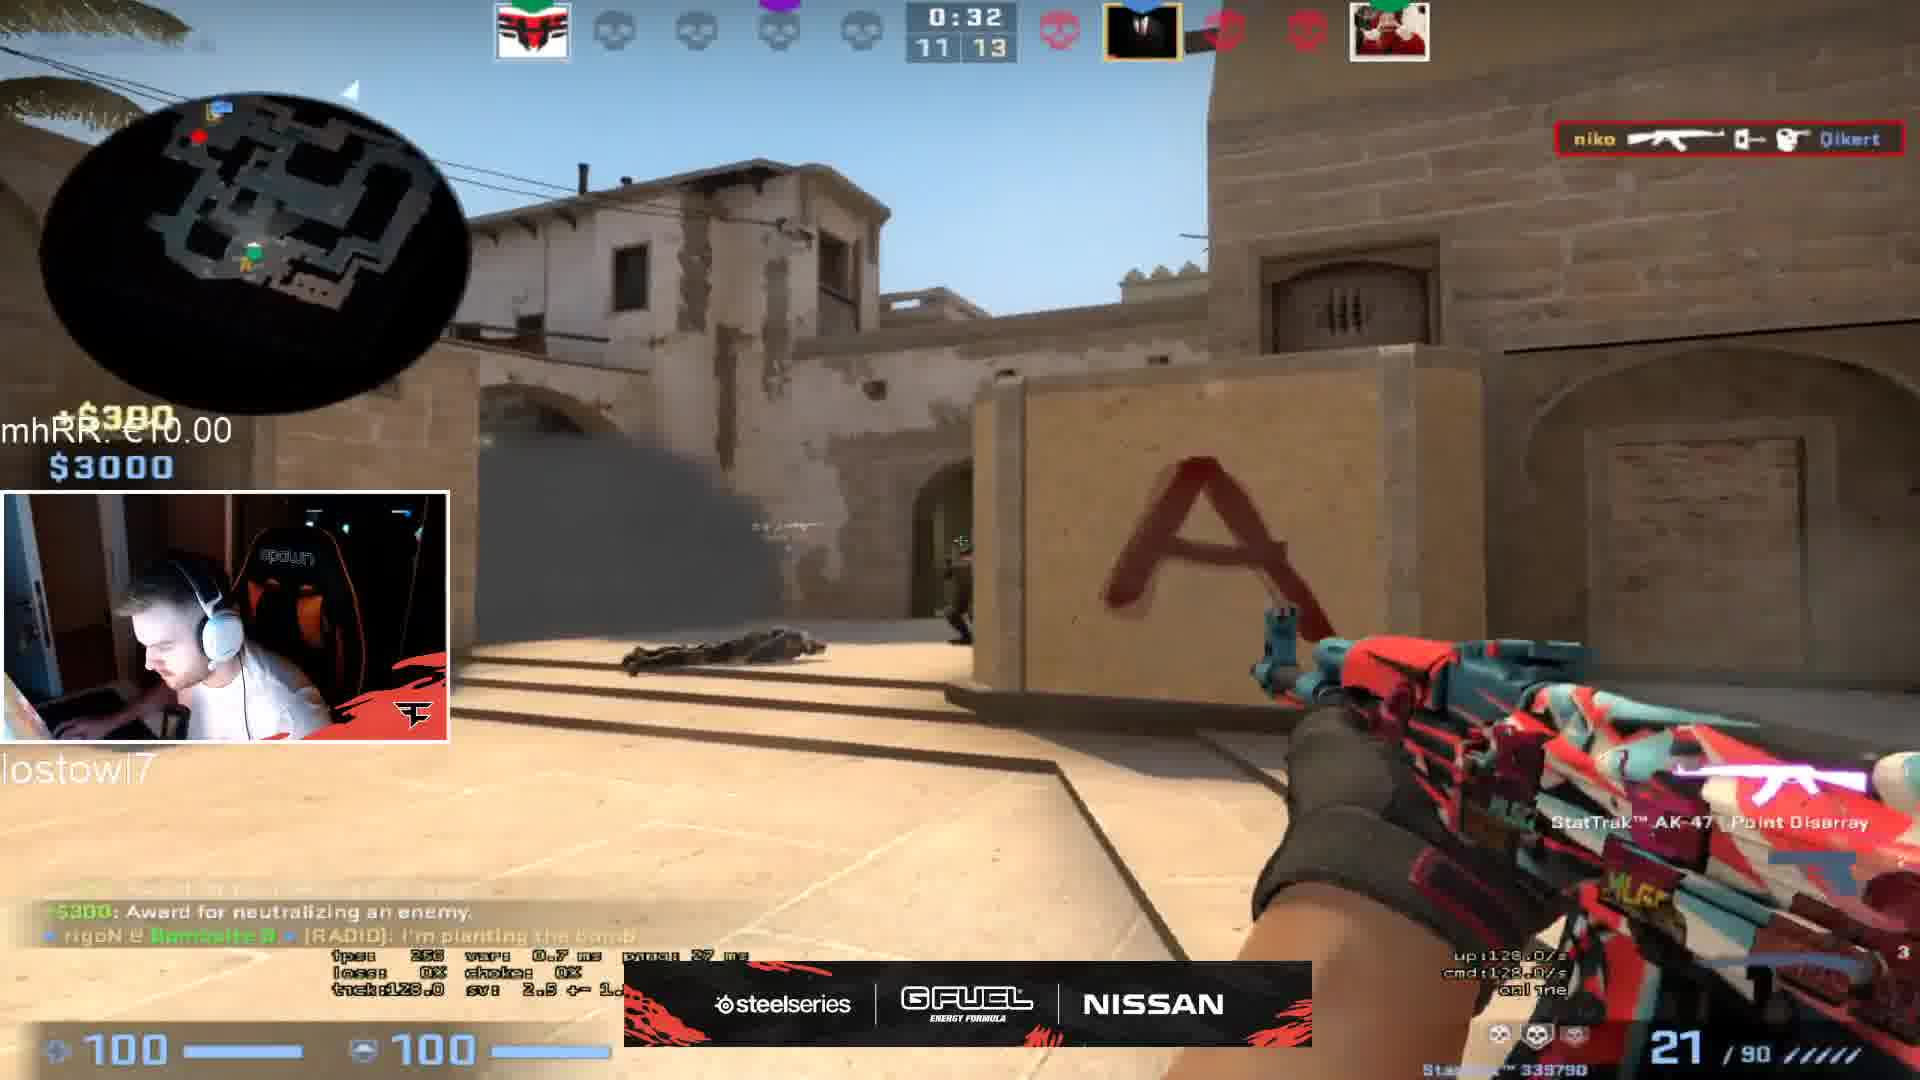enemy: (928, 535, 981, 649)
